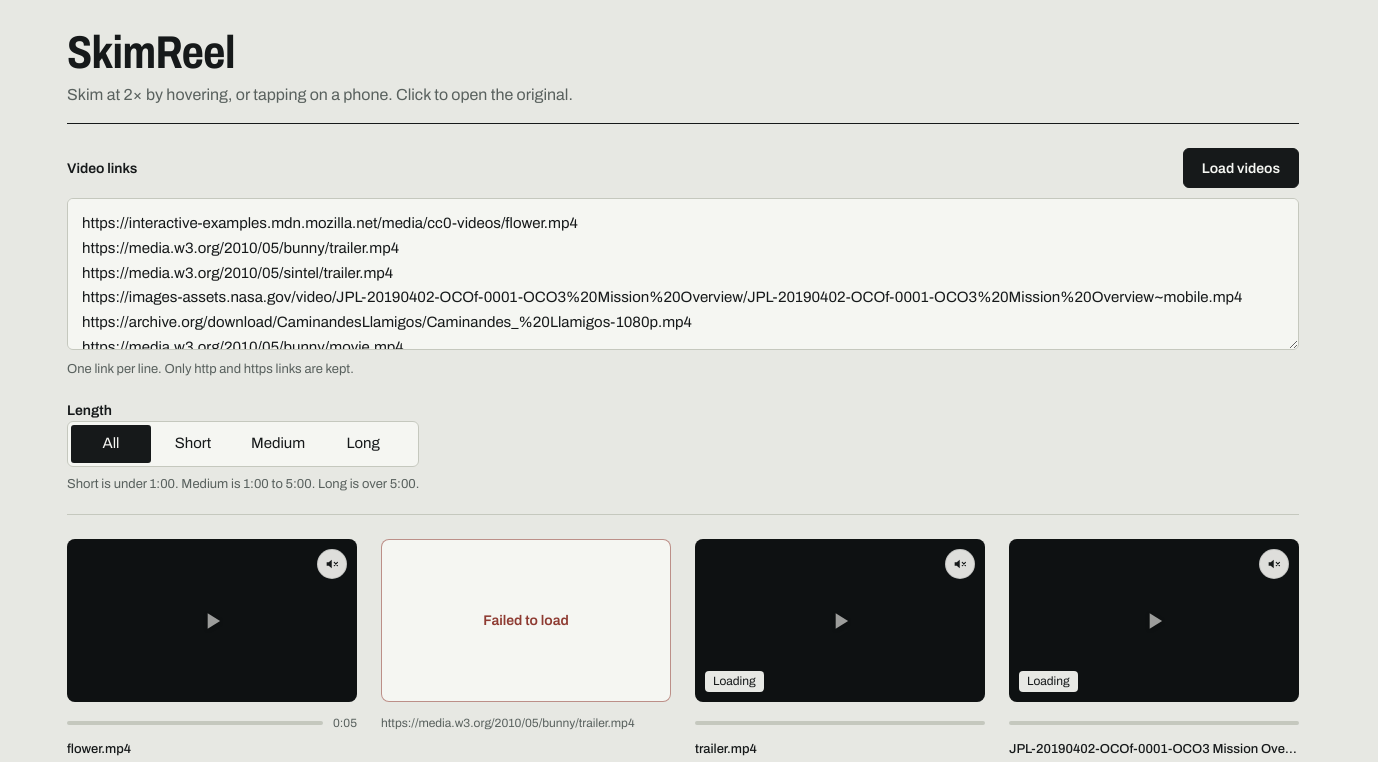
Test: loading a new list › resets the filter and forgets old durations and failures
The width and height of the screenshot is (1378, 762).
Click the radio button labelled "Short": (193, 444) [175, 436, 211, 452]
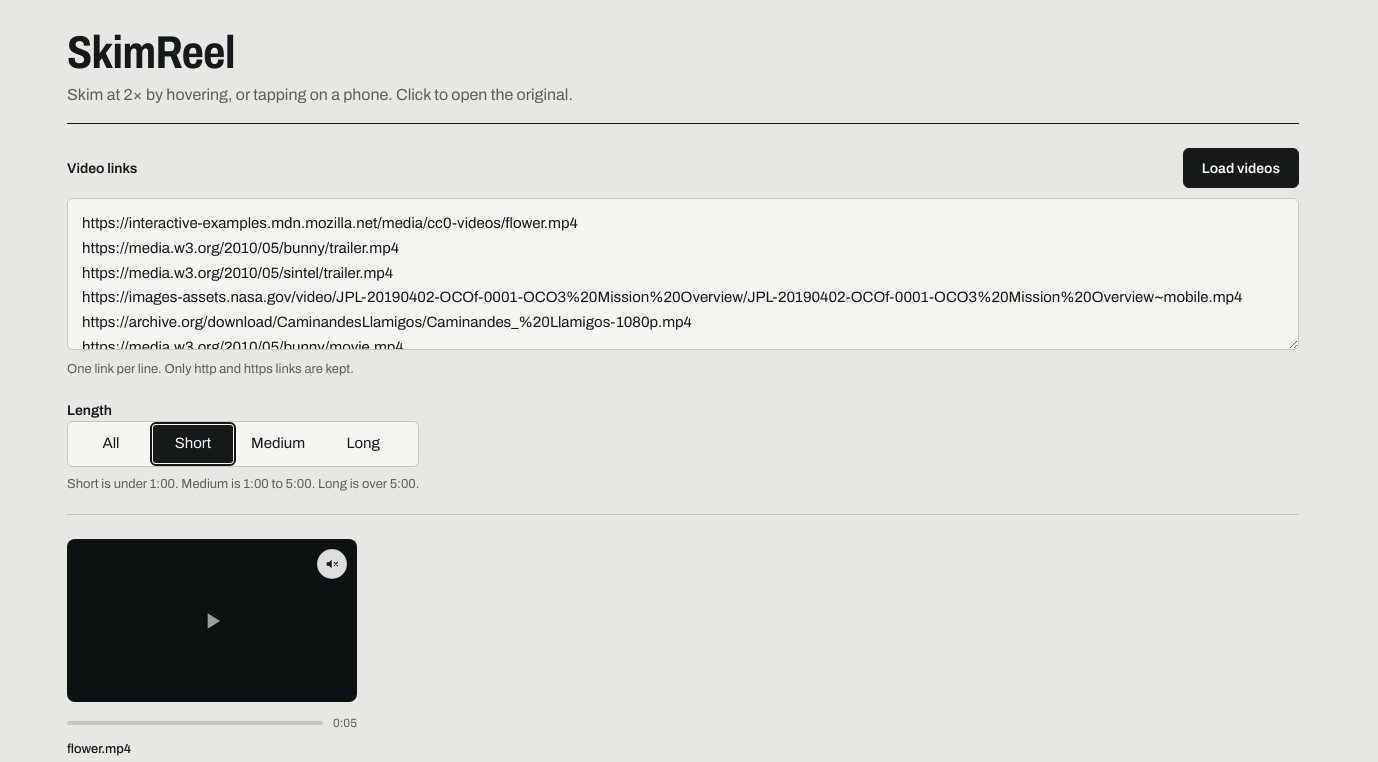
Expected: the number of buttons named "Preview " is 1, [67, 539, 357, 702]
Replace the text in the text box labelled "Video links" with "https://b.example/fresh.mp4": (683, 274) [67, 198, 1299, 350]
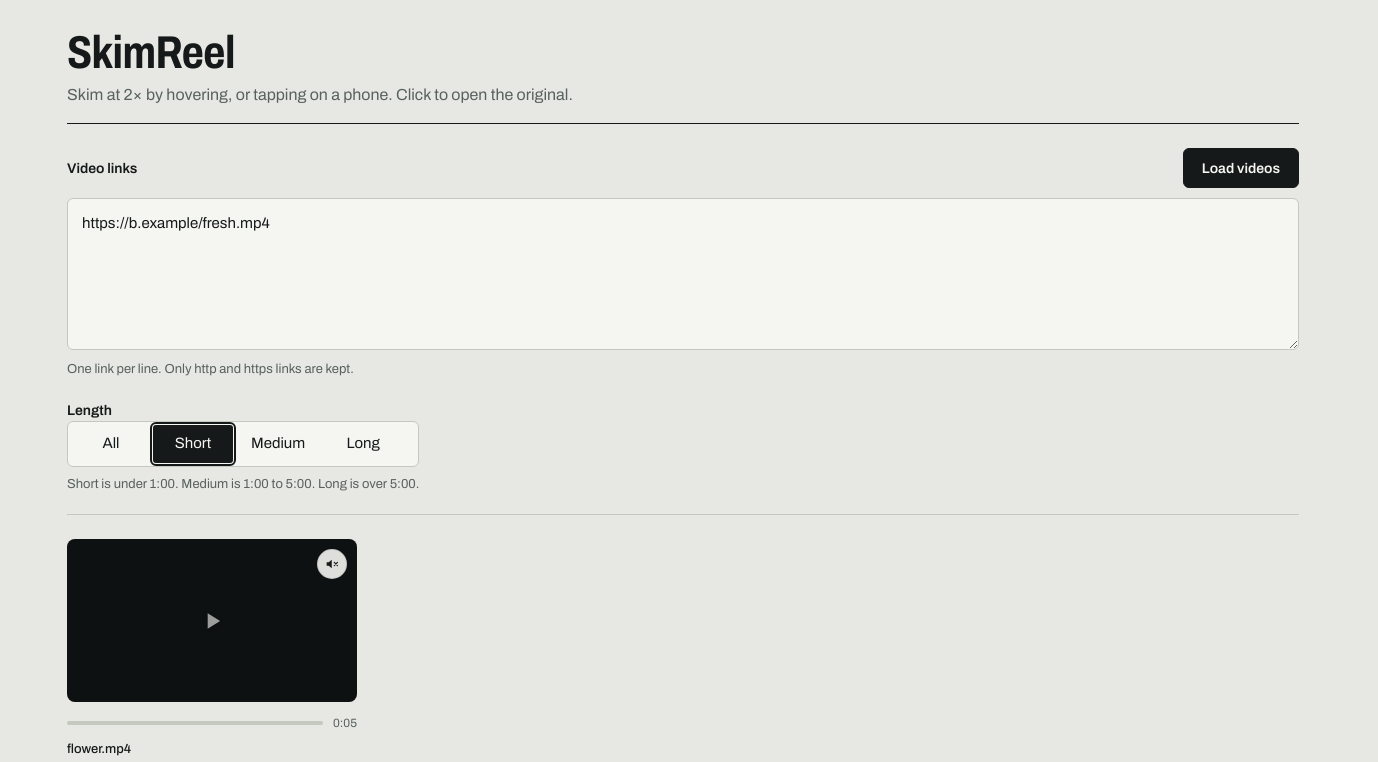
Click the button "Load videos": (1241, 168) [1183, 148, 1299, 188]
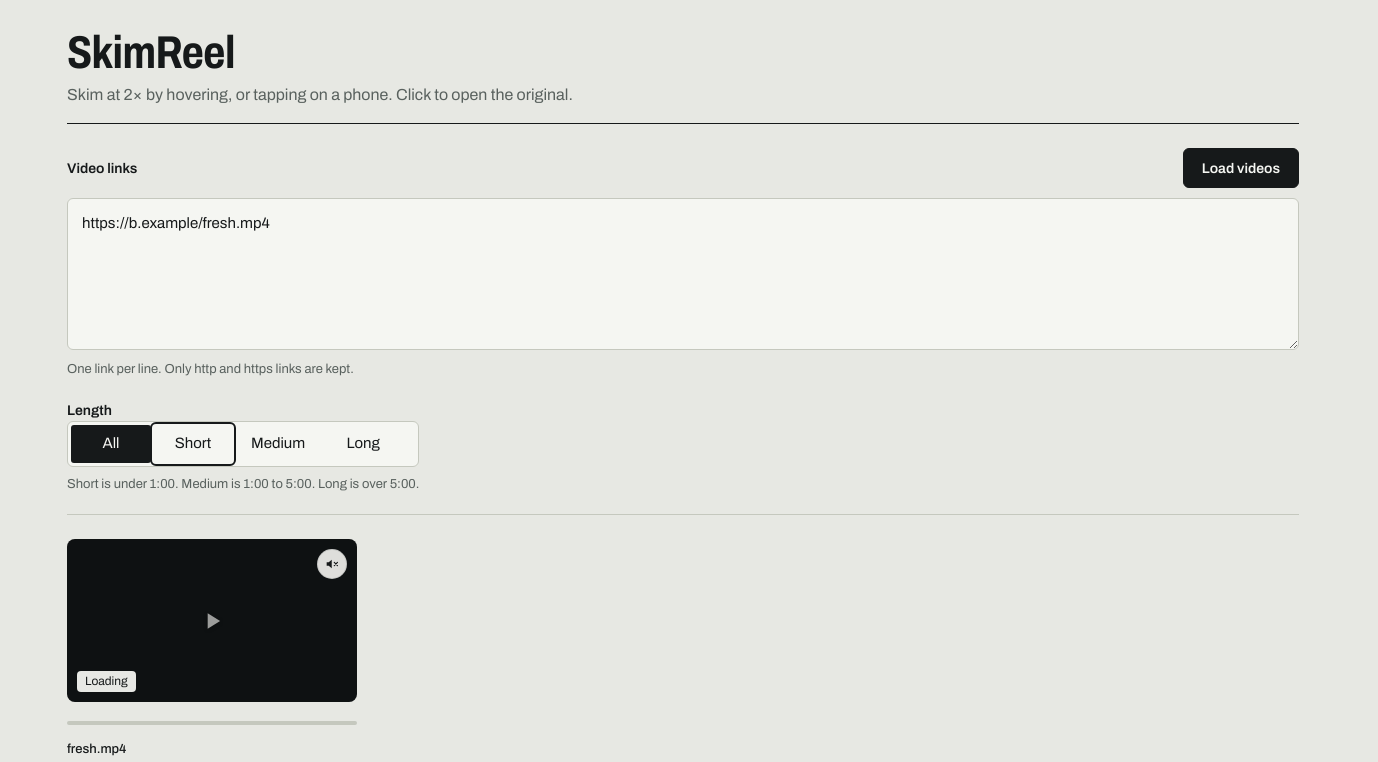
Expected: the number of buttons named "Preview " is 1, [67, 539, 357, 702]
Expected: the radio button labelled "All" is checked, [71, 425, 151, 463]
Expected: the text "Loading" is shown, [77, 671, 136, 692]
